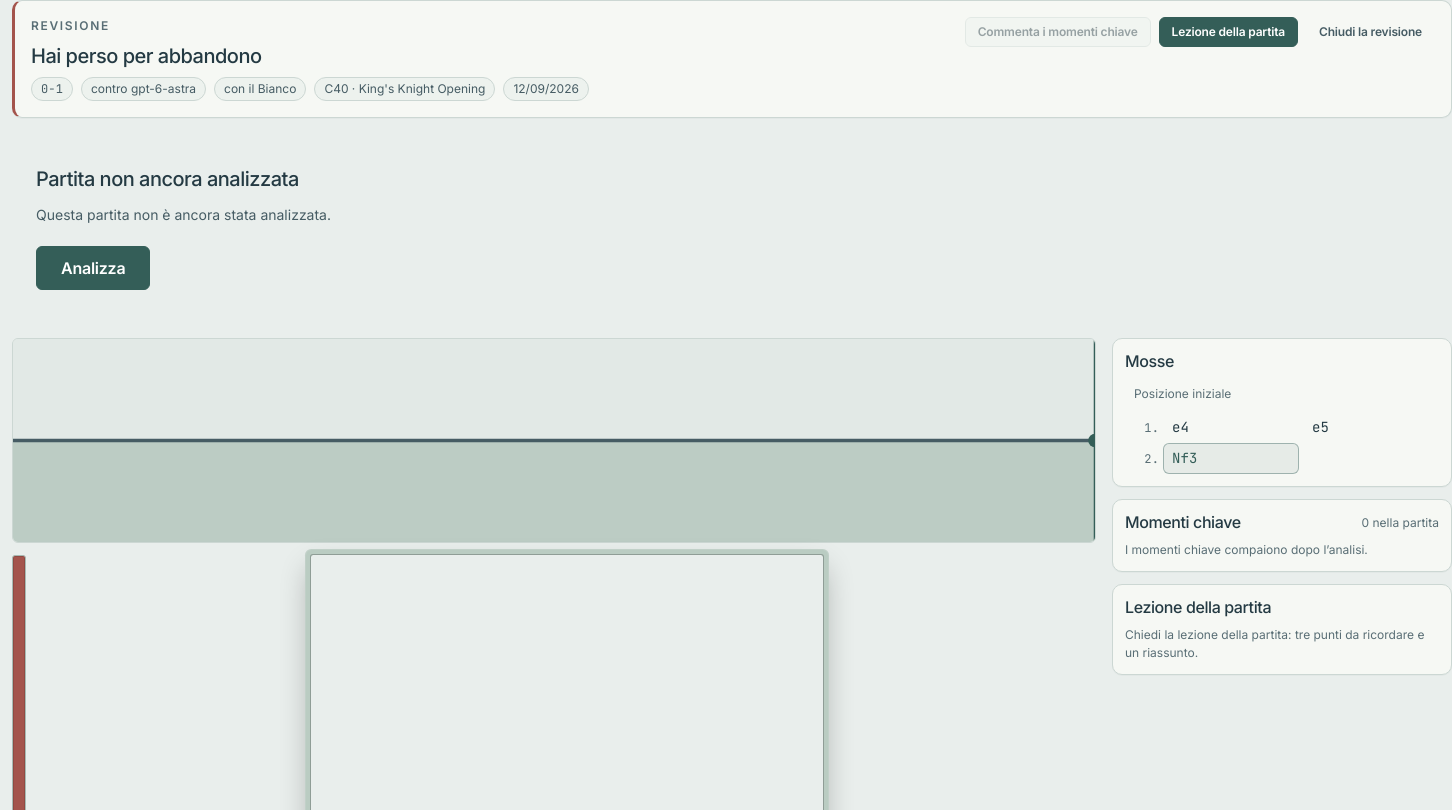
Test: ReviewScreen › offers to analyse a game nobody has analysed yet
Expected: the heading "Partita non ancora analizzata" is shown, [36,166,299,192]
Expected: the text "Questa partita non è ancora stata analizzata." is shown, [36,204,331,226]
Click the button "Analizza". click: (93, 268)
box: [36,246,150,290]
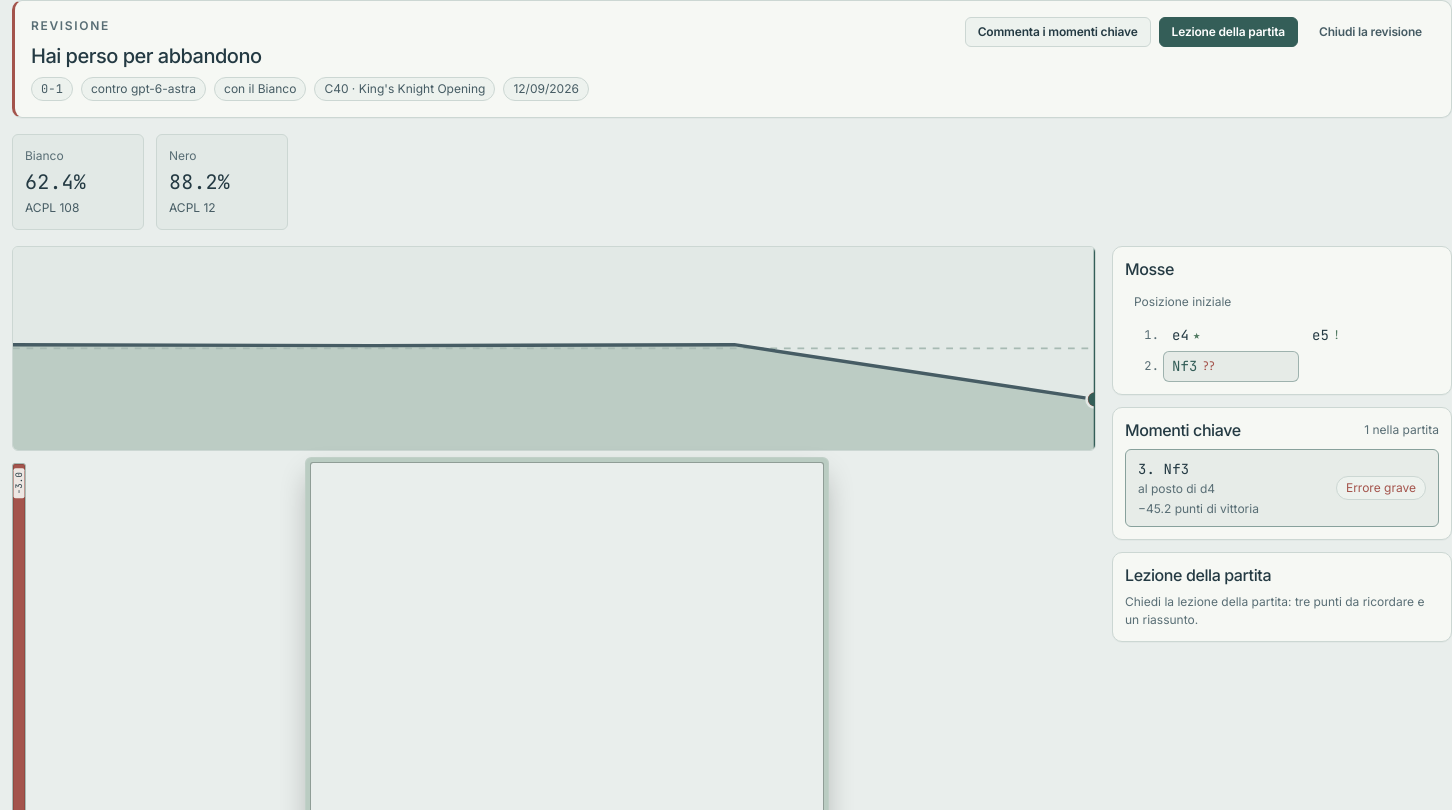
Result: the text "62.4%" is shown at [25,169,86,195]
